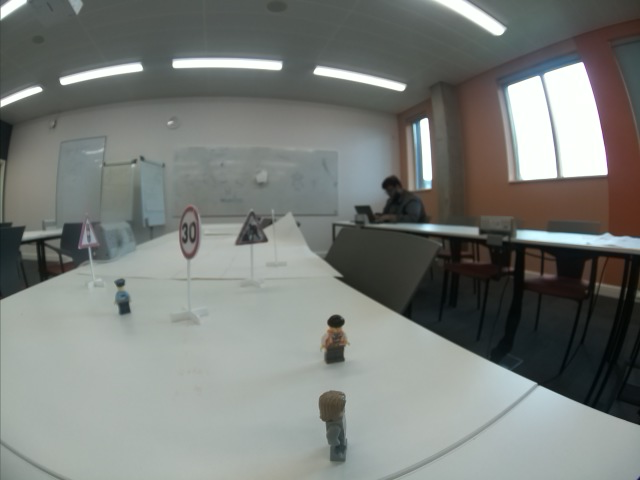30mph: (179, 207, 200, 258)
Lego Man: (321, 391, 347, 462), (321, 315, 348, 362), (115, 278, 131, 313)
Roadworks: (235, 212, 268, 244)
Traffic lights: (79, 217, 100, 249)
